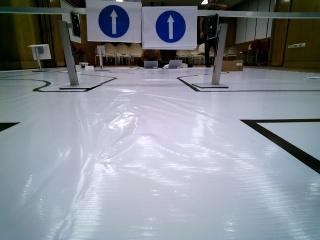straight: (145, 8, 199, 49), (91, 2, 138, 42)
